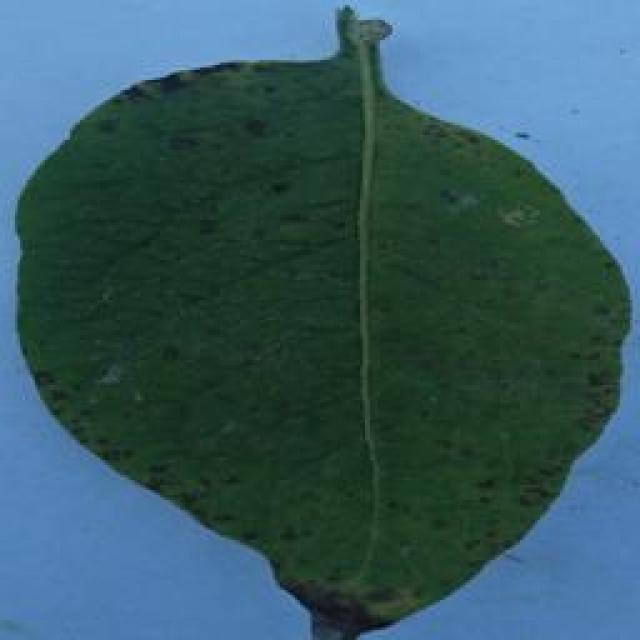Potato_Early_Blight: (10, 21, 640, 640)
